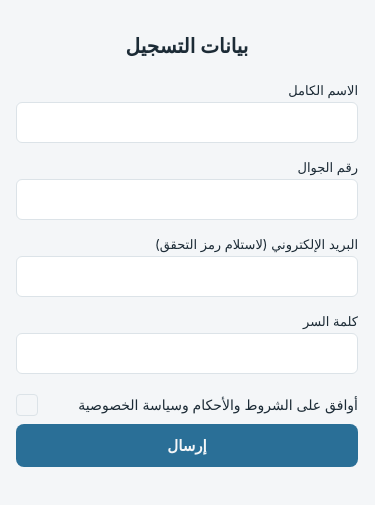
Test: RegisterFormScreen › shows a validation error when the mobile number is invalid
Type "Test User" into the field with test id "fullName-input" at [187, 122], box left=16, top=102, right=358, bottom=142
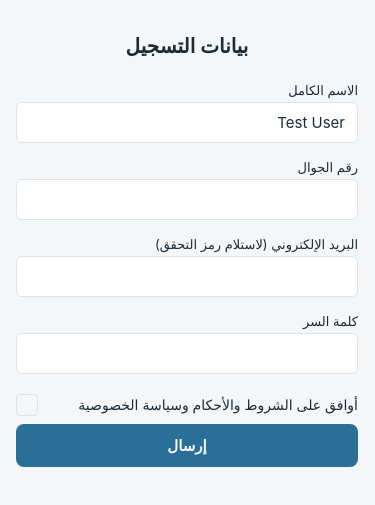
Type "123" into the field with test id "mobile-input" at [187, 199], box left=16, top=178, right=358, bottom=220
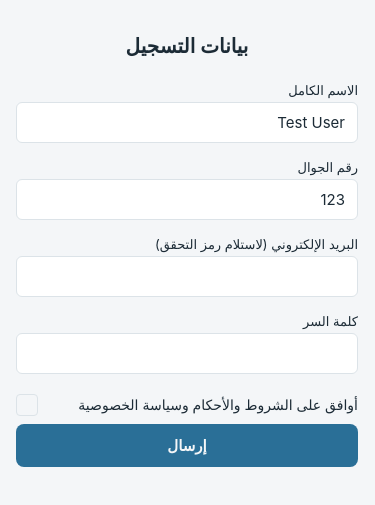
Type "password123" into the password field with test id "password-input" at [187, 353], box left=16, top=332, right=358, bottom=374
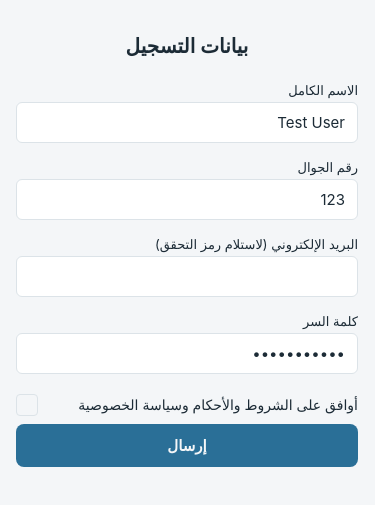
Click the text "إرسال" at [187, 445], box left=167, top=436, right=207, bottom=454
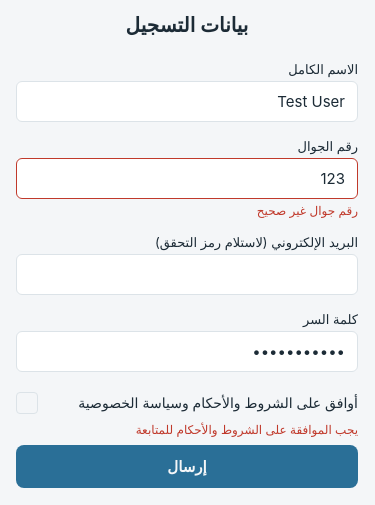
Check: the text "رقم جوال غير صحيح" is shown, box left=257, top=202, right=358, bottom=218
